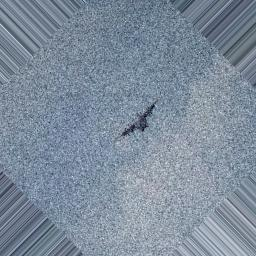Airplane: (119, 99, 159, 139)
